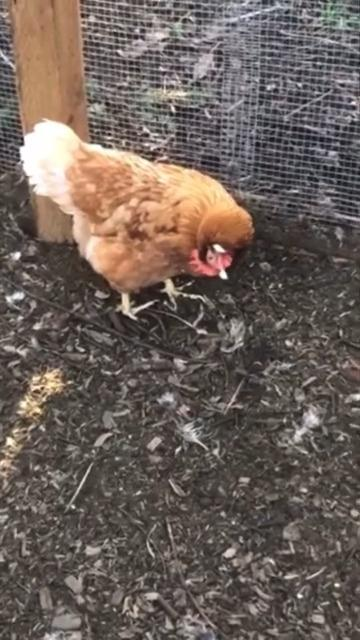AbNormal: (13, 112, 262, 322)
